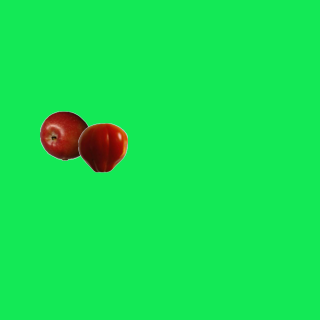Apple Braeburn: (39, 110, 89, 160)
Tomato 1: (77, 122, 127, 172)
